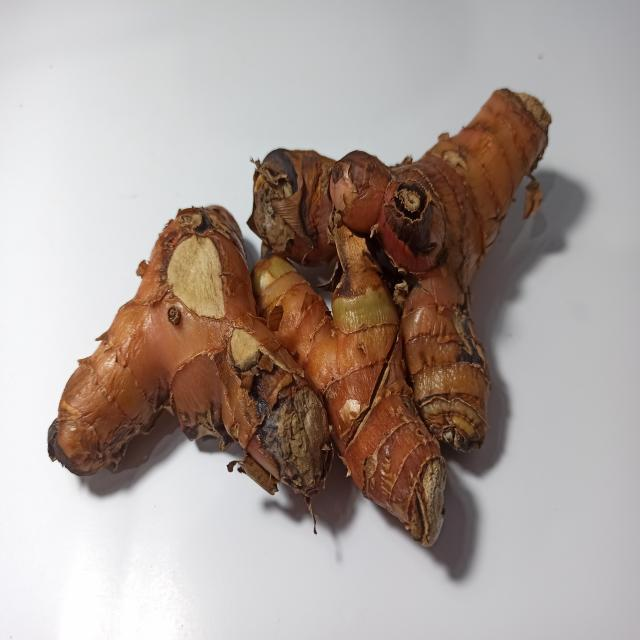ginger: (49, 85, 539, 528)
